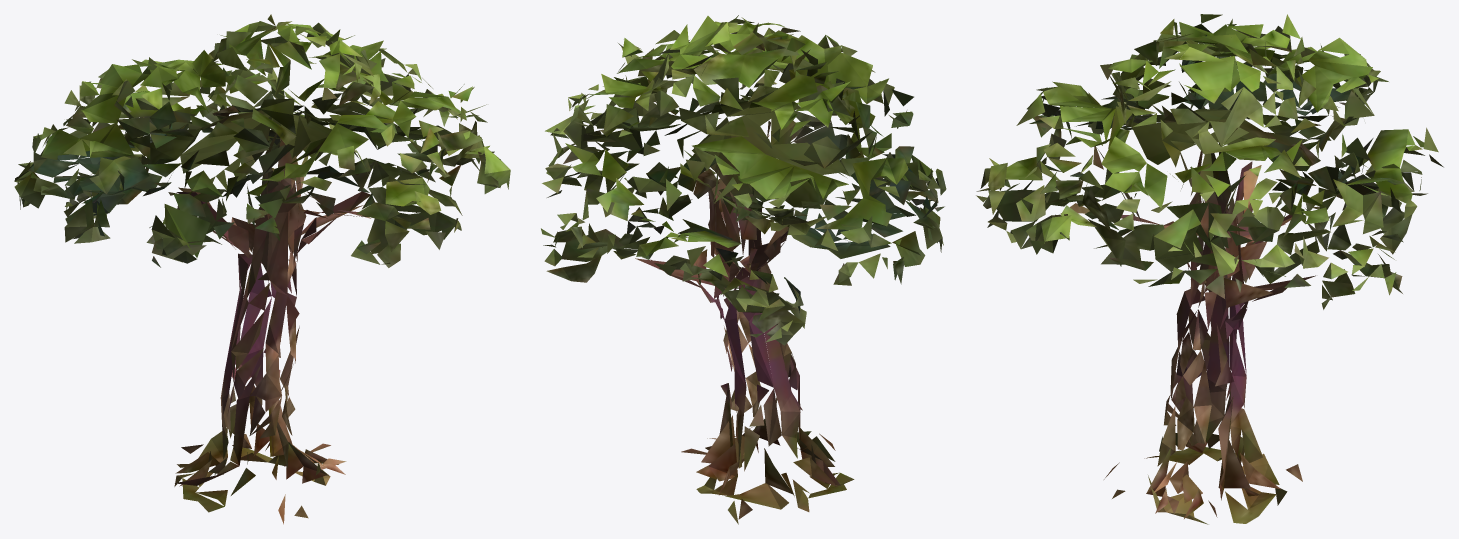
File: tree_jungle_b.glb
3 views of the same model, side by side, from view 1: azimuth 30°, elevation 25°; view 2: azimuth 150°, elevation 25°; view 3: azimuth 270°, elevation 25° (orthographic). The views are drawn at different scales.
Parts seen in each view (by area): view 1: geometry_0; view 2: geometry_0; view 3: geometry_0.
Boxes of the visible parts, left/top/right/bottom form: geometry_0: left=14, top=14, right=510, bottom=524; geometry_0: left=541, top=15, right=946, bottom=524; geometry_0: left=976, top=14, right=1443, bottom=524.
Bounding box in the file's own units: 1.88 × 2.04 × 1.78.
1 material, 1 textured.
